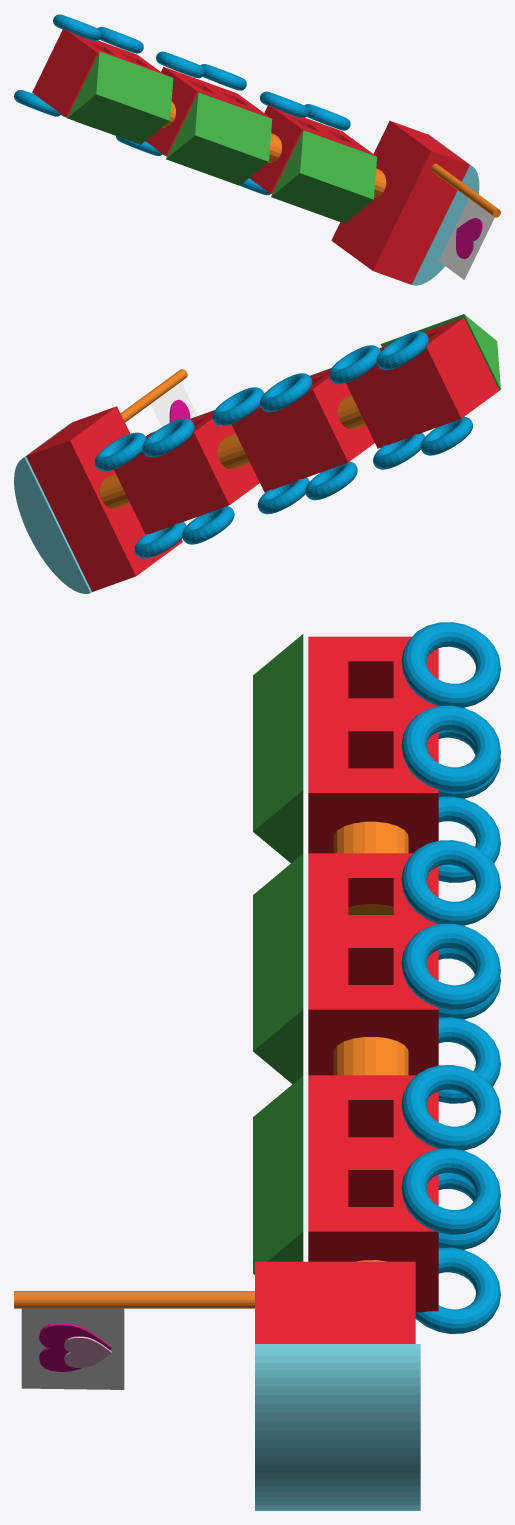
The model's file is tinker.obj.
3 renders of one model, top to bottom at view 1: azimuth 30°, elevation 25°; view 2: azimuth 150°, elevation 25°; view 3: azimuth 270°, elevation 25°, orthographic. The views are drawn at different scales.
Visible parts, largest first — view 1: group_0_15277357, group_0_4634441, group_0_40919, group_0_7720667, group_0_16448250, group_0_16089887, group_0_14093196; view 2: group_0_15277357, group_0_40919, group_0_7720667, group_0_16089887, group_0_4634441, group_0_16448250, group_0_14093196; view 3: group_0_15277357, group_0_40919, group_0_4634441, group_0_7720667, group_0_16089887, group_0_16448250, group_0_14093196, group_0_15708628.
Boxes of the visible parts, x1,y1,x2,y2 form: group_0_15277357: (32, 29, 469, 284); group_0_4634441: (67, 51, 376, 223); group_0_40919: (14, 14, 350, 195); group_0_7720667: (412, 134, 479, 285); group_0_16448250: (438, 199, 494, 279); group_0_16089887: (162, 101, 500, 217); group_0_14093196: (456, 218, 482, 259); group_0_15277357: (26, 318, 499, 591); group_0_40919: (94, 331, 472, 558); group_0_7720667: (14, 422, 91, 593); group_0_16089887: (100, 369, 365, 508); group_0_4634441: (150, 314, 500, 433); group_0_16448250: (150, 382, 197, 426); group_0_14093196: (169, 399, 190, 422); group_0_15277357: (255, 636, 438, 1343); group_0_40919: (401, 622, 500, 1333); group_0_4634441: (253, 634, 303, 1274); group_0_7720667: (255, 1344, 420, 1510); group_0_16089887: (14, 821, 408, 1308); group_0_16448250: (21, 1308, 124, 1389); group_0_14093196: (39, 1323, 111, 1371); group_0_15708628: (64, 1336, 111, 1367).
Size of the model in its own units: 183 by 130 by 97.
